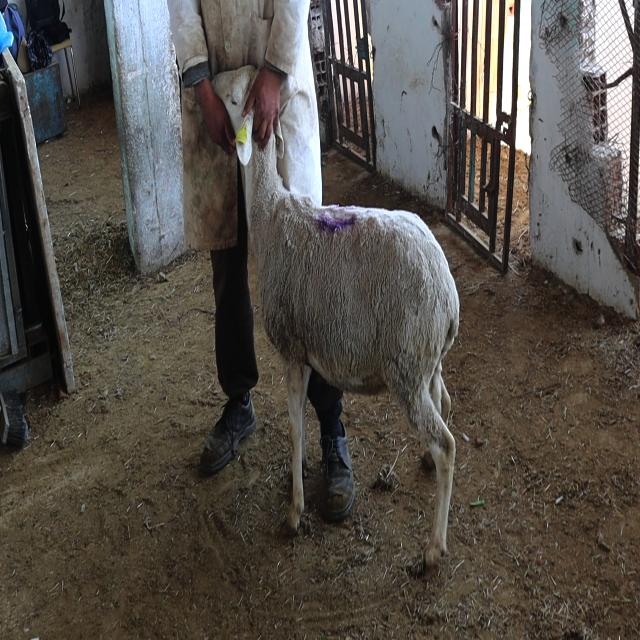Score_2: (215, 66, 460, 565)
